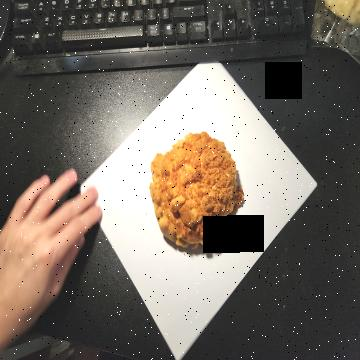soboru_bread: (151, 132, 244, 252)
